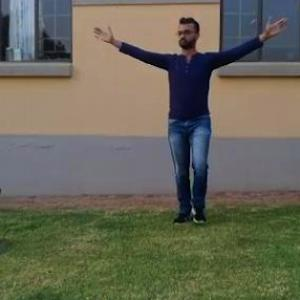takeoff: (105, 21, 277, 215)
